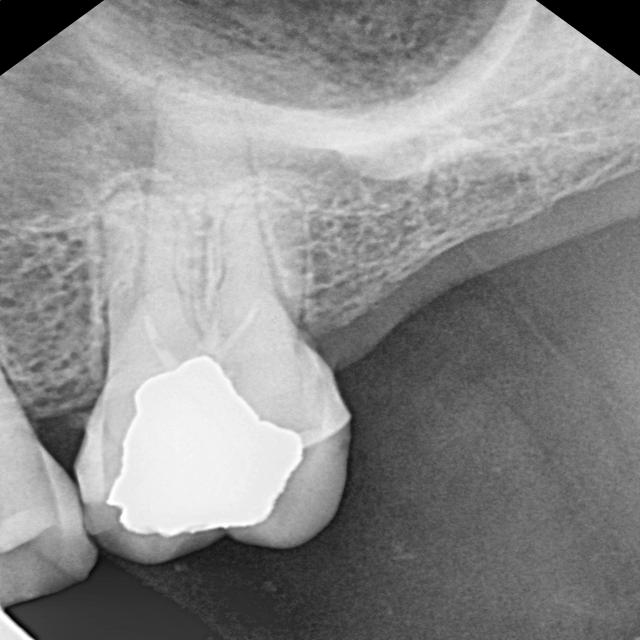Restoration: (102, 352, 311, 539)
